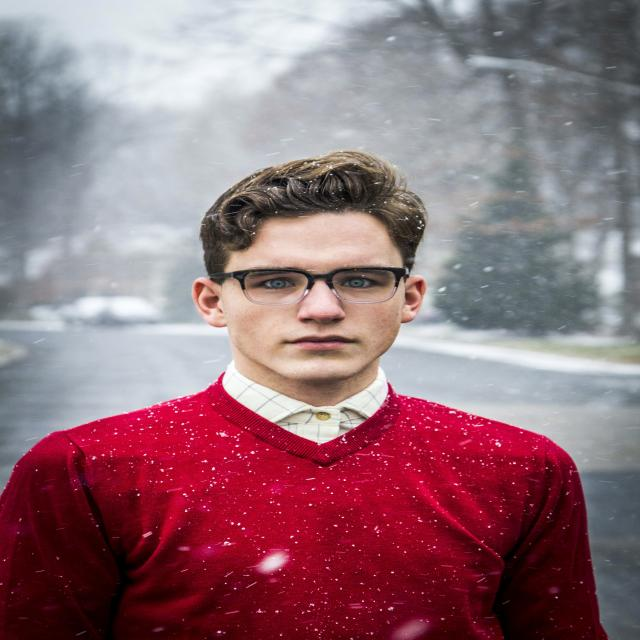adult: (0, 156, 593, 640)
